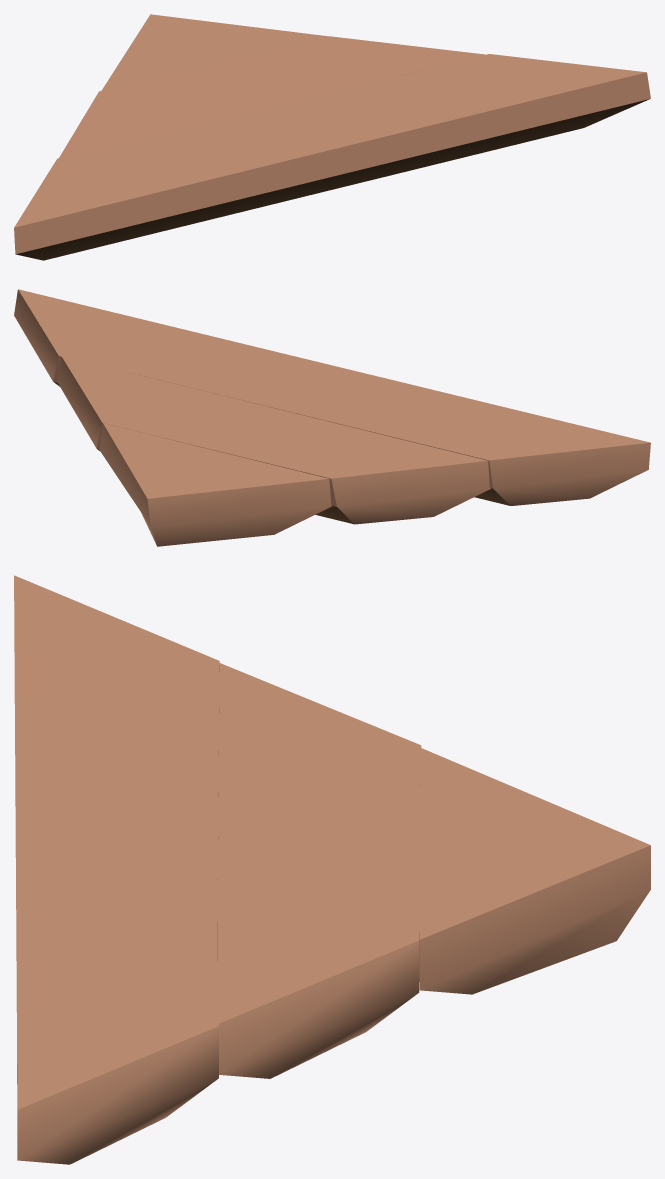
Rendered from rt90_wood_2_pineSplitLogTriFloorSection2.glb.
3 renders of one model, top to bottom at view 1: azimuth 30°, elevation 25°; view 2: azimuth 150°, elevation 25°; view 3: azimuth 270°, elevation 25°, orthographic. The views are drawn at different scales.
Parts seen in each view (by area): view 1: inside; view 2: inside; view 3: inside.
Boxes of the visible parts, x1,y1,x2,y2 form: inside: (14,14,650,260); inside: (14,289,650,546); inside: (14,575,650,1164).
Bounding box in the file's own units: 1.47 × 0.1233 × 0.7331.
